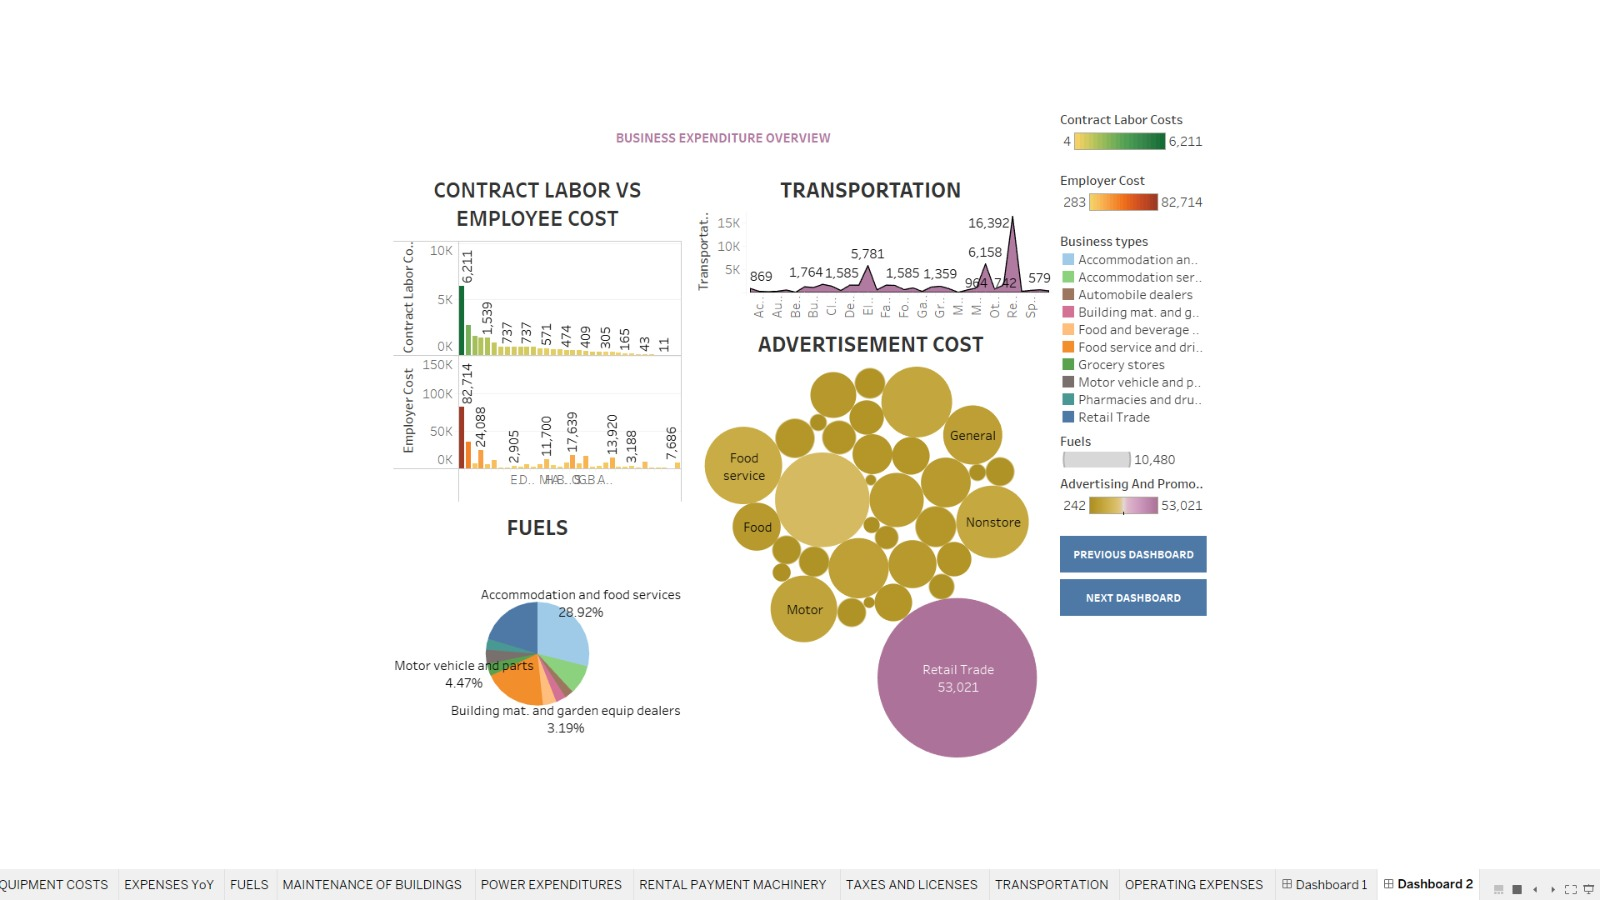

This screenshot's page, from the dashboard's own definition file:
{"tool":"tableau","page":{"name":"Dashboard 2","canvas":[1000,800],"ordinal":1},"visuals":[{"type":"text","box":[8,8,800,73]},{"type":"legend","title":"CONTRACT LABOR VS EMPLOYEE COST","param":"[federated.1o96k620cctjzr15oox1n03v0wdw].[sum:contract_labor_costs:qk]","box":[808,8,184,73]},{"type":"worksheet","title":"CONTRACT LABOR VS EMPLOYEE COST","mark":"Automatic","rows":["contract_labor_costs","employer_cost"],"cols":["Business_types"],"box":[8,81,354.4,405]},{"type":"worksheet","title":"TRANSPORTATION","mark":"Area","rows":["transportation_shipping_warehousing"],"cols":["Business_types"],"box":[362.4,81,445.6,185]},{"type":"legend","title":"CONTRACT LABOR VS EMPLOYEE COST","param":"[federated.1o96k620cctjzr15oox1n03v0wdw].[sum:employer_cost:qk]","box":[808,81,184,73]},{"type":"legend","title":"FUELS","param":"[federated.1o96k620cctjzr15oox1n03v0wdw].[none:Business_types:nk]","box":[808,154,184,240]},{"type":"worksheet","title":"ADVERTISEMENT COST","mark":"Circle","box":[362.4,266,445.6,526]},{"type":"legend","title":"FUELS","param":"[federated.1o96k620cctjzr15oox1n03v0wdw].[sum:fuels:qk]","box":[808,394,184,51]},{"type":"legend","title":"ADVERTISEMENT COST","param":"[federated.1o96k620cctjzr15oox1n03v0wdw].[sum:advertising_and_promotional_servic","box":[808,445,184,73]},{"type":"worksheet","title":"FUELS","mark":"Pie","box":[8,486,354.4,306]},{"type":"dashboard-object","box":[808,518,184,52]},{"type":"dashboard-object","box":[808,570,184,52]}]}

Visuals, with their boxes on the page's 1000x800 design canvas (x1, y1, x2, y2). These are canvas units, not pixel positions in the 1600x900 screenshot, which may show the page scaled, cropped or inside an application window:
text: <bbox>8, 8, 808, 81</bbox>
"CONTRACT LABOR VS EMPLOYEE COST" legend: <bbox>808, 8, 992, 81</bbox>
"CONTRACT LABOR VS EMPLOYEE COST" worksheet: <bbox>8, 81, 362, 486</bbox>
"TRANSPORTATION" worksheet (Area marks): <bbox>362, 81, 808, 266</bbox>
"CONTRACT LABOR VS EMPLOYEE COST" legend: <bbox>808, 81, 992, 154</bbox>
"FUELS" legend: <bbox>808, 154, 992, 394</bbox>
"ADVERTISEMENT COST" worksheet (Circle marks): <bbox>362, 266, 808, 792</bbox>
"FUELS" legend: <bbox>808, 394, 992, 445</bbox>
"ADVERTISEMENT COST" legend: <bbox>808, 445, 992, 518</bbox>
"FUELS" worksheet (Pie marks): <bbox>8, 486, 362, 792</bbox>
dashboard-object: <bbox>808, 518, 992, 570</bbox>
dashboard-object: <bbox>808, 570, 992, 622</bbox>
